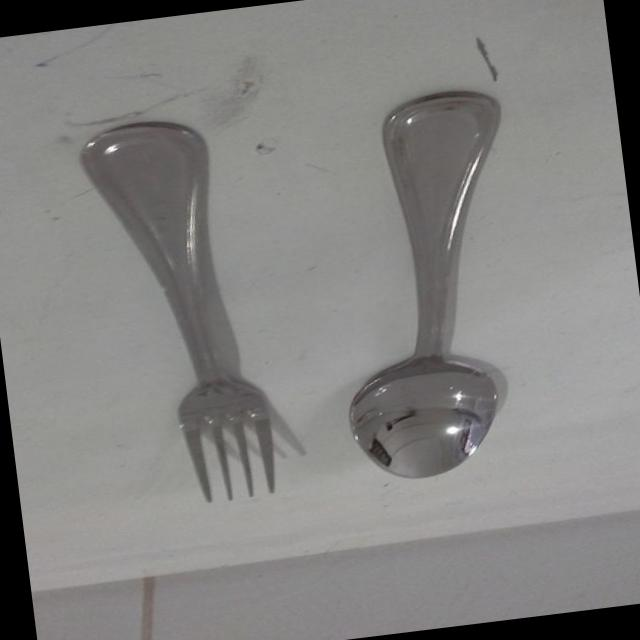fork: (74, 110, 289, 509)
spoon: (304, 73, 582, 492)
